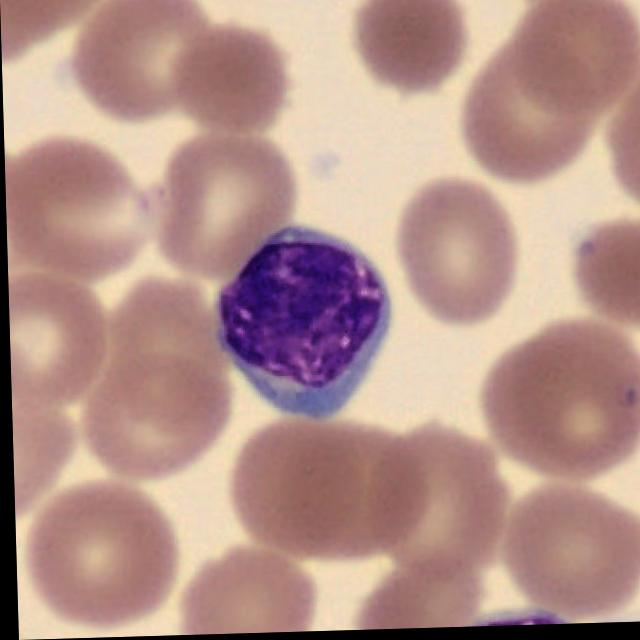Linfocito: (213, 228, 392, 424)
